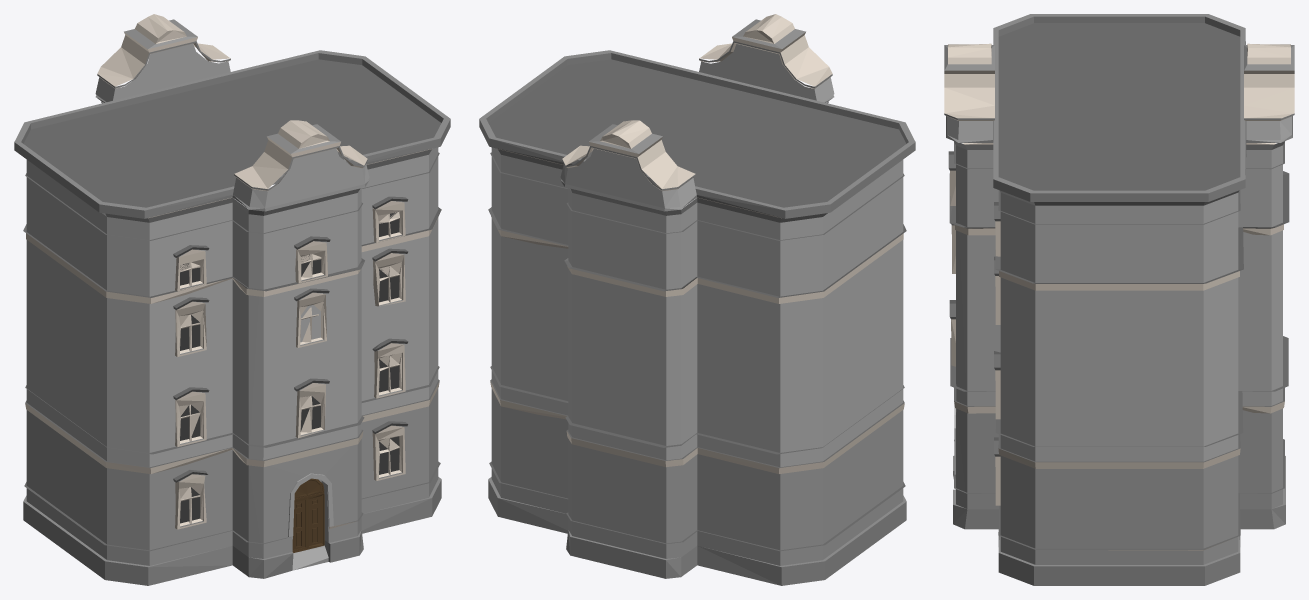
The model's file is b_building4.glb.
3 renders of one model, left to right at view 1: azimuth 30°, elevation 25°; view 2: azimuth 150°, elevation 25°; view 3: azimuth 270°, elevation 25°, orthographic. The views are drawn at different scales.
Visible parts, largest first — view 1: Building4; view 2: Building4; view 3: Building4.
Part boxes in pixels (<box>): Building4: <box>14,14,450,585</box>; Building4: <box>479,14,915,585</box>; Building4: <box>944,14,1294,585</box>.
Size of the model in its own units: 4.64 by 5.49 by 3.83.
